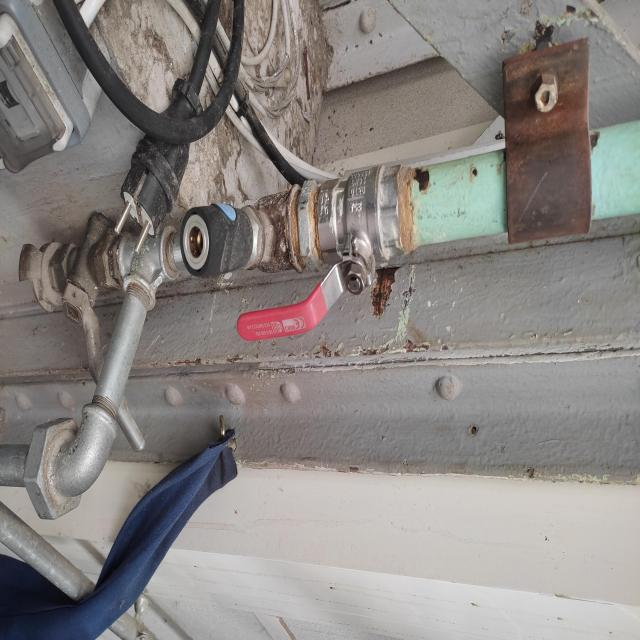opened_valve: (236, 153, 405, 346)
